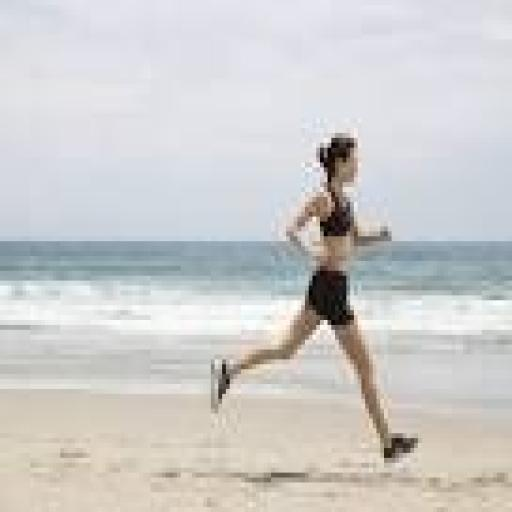running: (203, 128, 422, 468)
